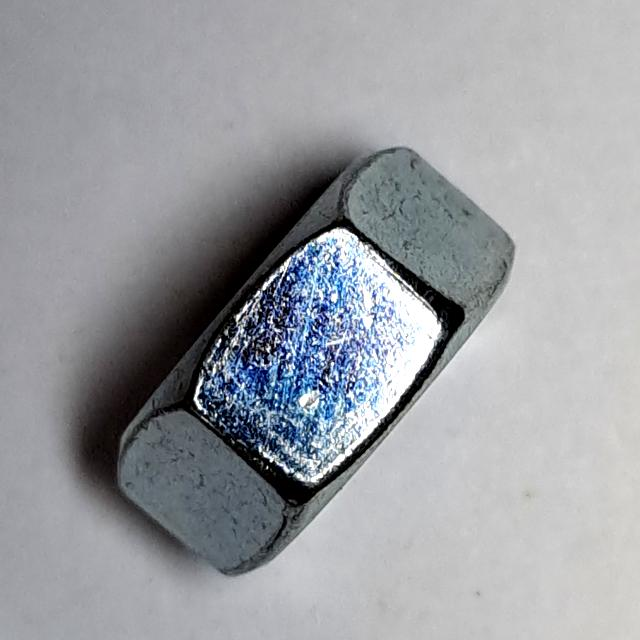Side_Excellent: (104, 141, 525, 601)
